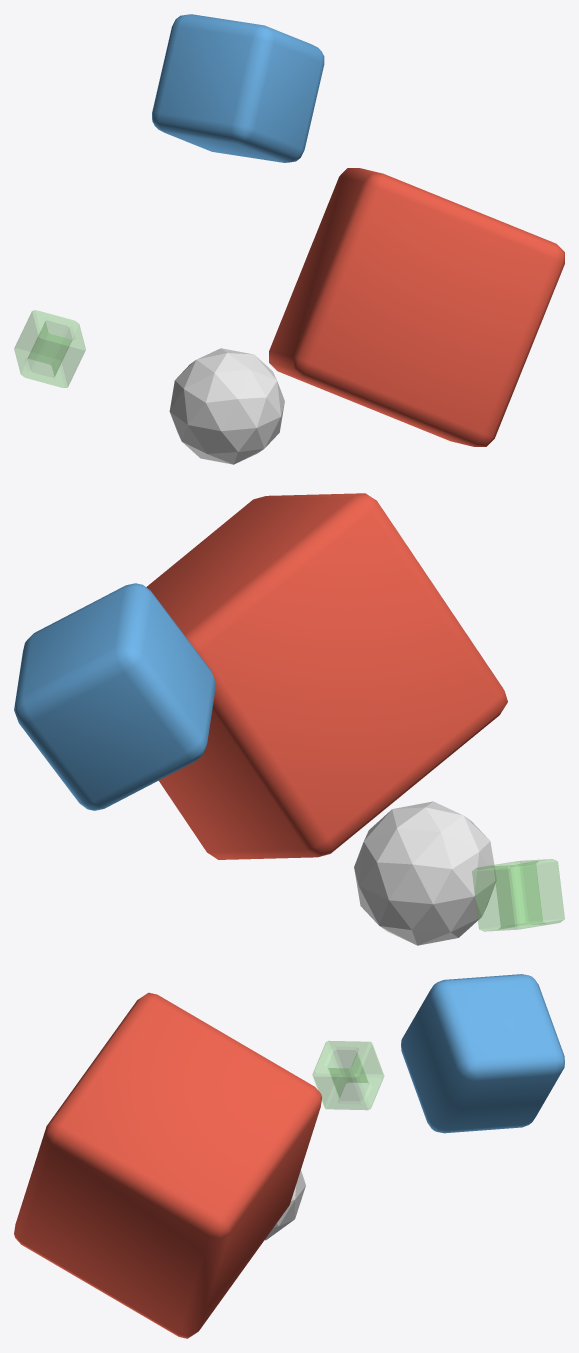
File: example2.glb
3 renders of one model, top to bottom at view 1: azimuth 30°, elevation 25°; view 2: azimuth 150°, elevation 25°; view 3: azimuth 270°, elevation 25°, orthographic. The views are drawn at different scales.
Parts seen in each view (by area): view 1: Cube.002, Cube.001, Icosphere, Cube; view 2: Cube.002, Cube.001, Icosphere, Cube; view 3: Cube.002, Cube.001, Cube, Icosphere.
Part boxes in pixels (x1=…): Cube.002: x1=269, y1=168, x2=564, y2=446; Cube.001: x1=152, y1=14, x2=324, y2=162; Icosphere: x1=169, y1=348, x2=284, y2=464; Cube: x1=14, y1=310, x2=85, y2=387; Cube.002: x1=146, y1=493, x2=507, y2=859; Cube.001: x1=14, y1=583, x2=216, y2=810; Icosphere: x1=354, y1=801, x2=496, y2=945; Cube: x1=472, y1=859, x2=564, y2=931; Cube.002: x1=14, y1=992, x2=321, y2=1338; Cube.001: x1=401, y1=974, x2=564, y2=1133; Cube: x1=312, y1=1041, x2=384, y2=1109; Icosphere: x1=265, y1=1170, x2=305, y2=1240.
Size of the model in its own units: 8.92 by 6.21 by 9.54.
